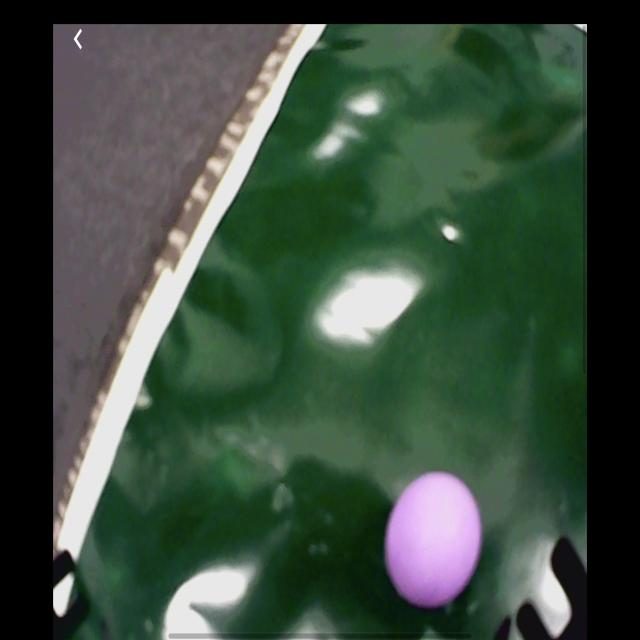ball: (386, 473, 483, 609)
